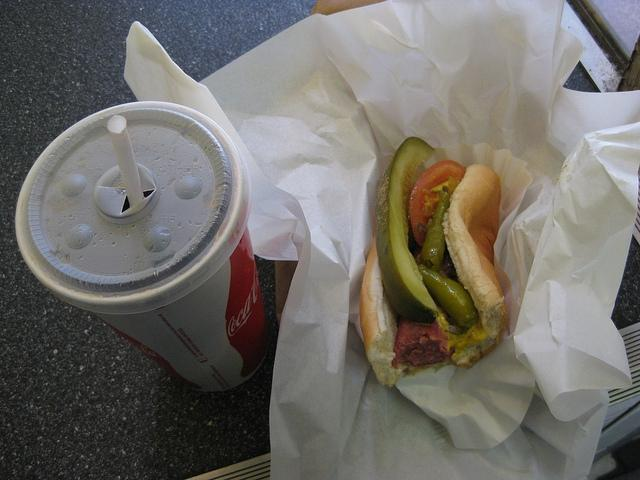hot pepper: (418, 264, 478, 326), (422, 191, 451, 271)
tomato: (410, 160, 466, 247)
